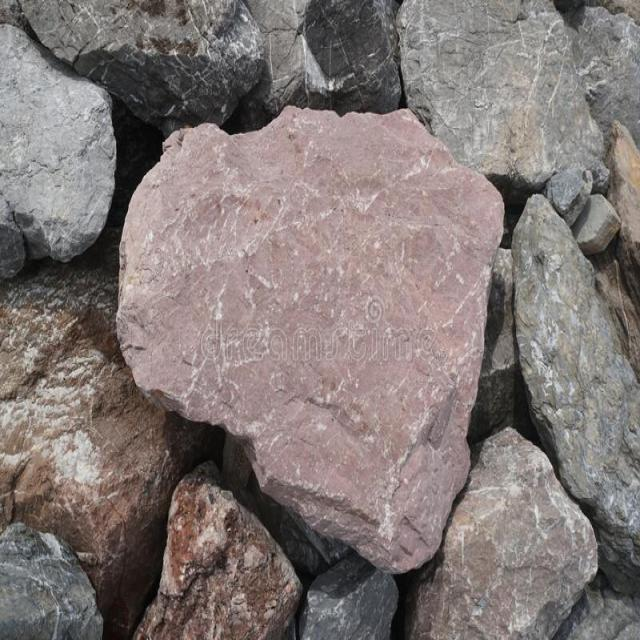Sedimentary: (116, 93, 518, 565), (1, 270, 196, 561), (506, 170, 640, 557), (408, 415, 592, 640), (398, 5, 616, 176), (125, 462, 300, 640), (1, 33, 118, 269), (1, 525, 101, 640), (305, 558, 395, 639)
